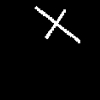single_crochet: (35, 6, 79, 42)
